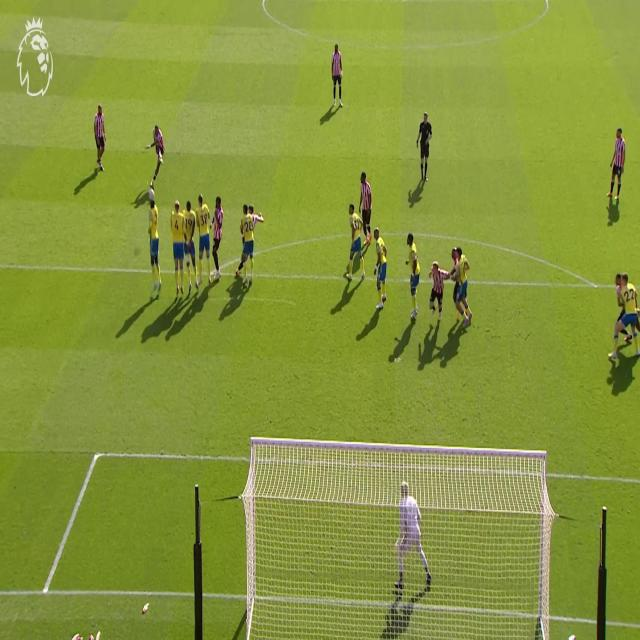soccer-goal: (253, 442, 543, 617)
